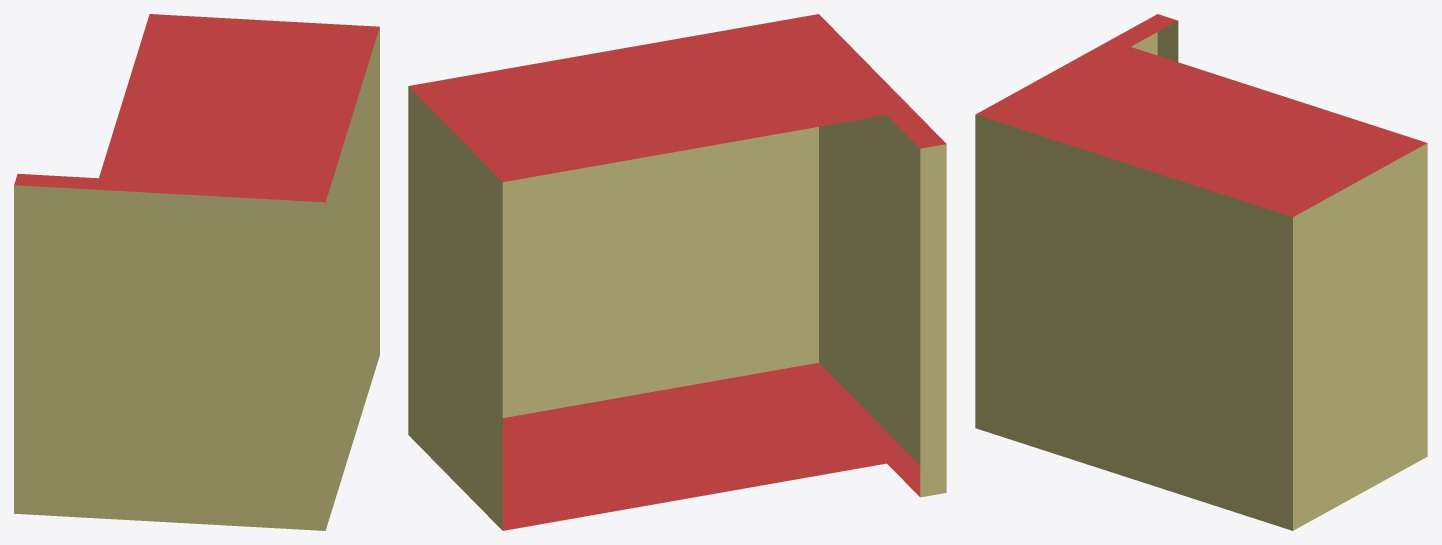
3 renders of one model, left to right at view 1: azimuth 30°, elevation 25°; view 2: azimuth 150°, elevation 25°; view 3: azimuth 270°, elevation 25°, orthographic. The views are drawn at different scales.
Parts seen in each view (by area): view 1: group_4, group_3; view 2: group_4, group_3, group_5; view 3: group_4, group_3.
Part boxes in pixels (box(x1,y1,x2,y2)): group_4: box(14, 27, 379, 530); group_3: box(14, 14, 379, 202); group_4: box(408, 86, 946, 530); group_3: box(408, 14, 946, 181); group_5: box(502, 362, 920, 530); group_4: box(975, 21, 1427, 530); group_3: box(976, 14, 1426, 217).
Size of the model in its own units: 10.65 by 10.01 by 7.66.
